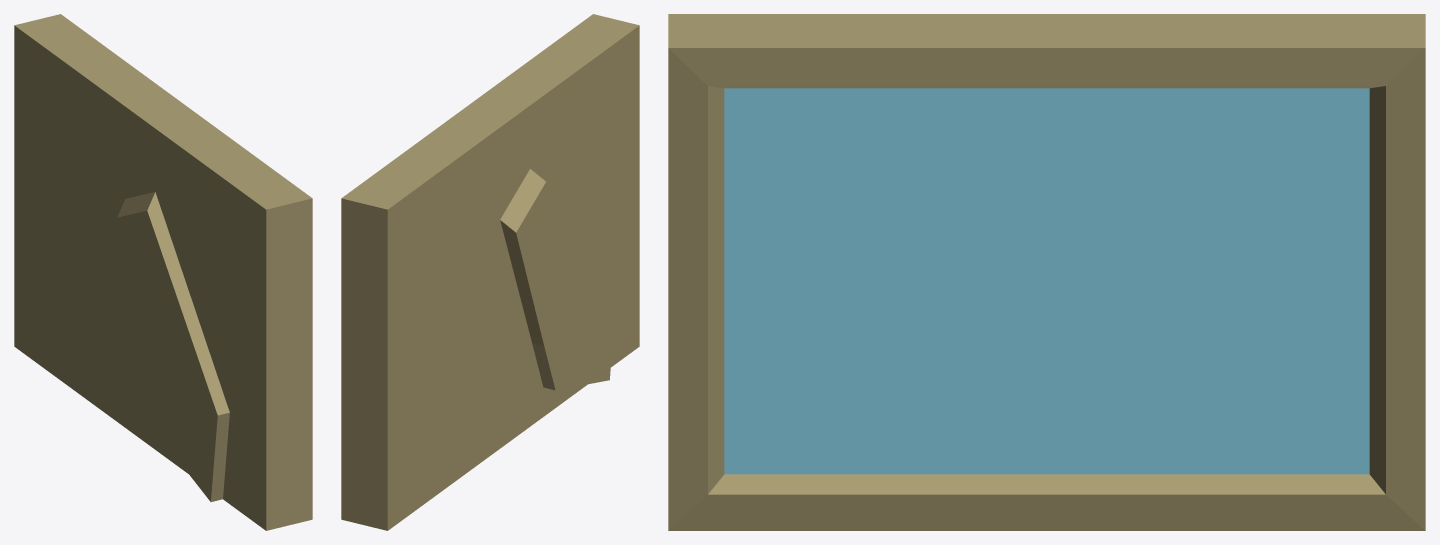
File: NST_PictureFrame 1.fbx
3 views of the same model, side by side, from view 1: azimuth 30°, elevation 25°; view 2: azimuth 150°, elevation 25°; view 3: azimuth 270°, elevation 25° (orthographic). The views are drawn at different scales.
Visible parts, largest first — view 1: NST_PictureFrame; view 2: NST_PictureFrame; view 3: NST_Picture, NST_PictureFrame, NST_Picture_Down, NST_Picture_Left, NST_Picture_Right.
Part boxes in pixels (x1,y1,x2,y2): NST_PictureFrame: (14,14,312,530); NST_PictureFrame: (341,14,639,530); NST_Picture: (724,88,1369,474); NST_PictureFrame: (668,14,1425,530); NST_Picture_Down: (724,271,1369,474); NST_Picture_Left: (724,88,1143,319); NST_Picture_Right: (1130,88,1369,293).
Size of the model in its own units: 0.0386 by 0.1959 by 0.2784.
